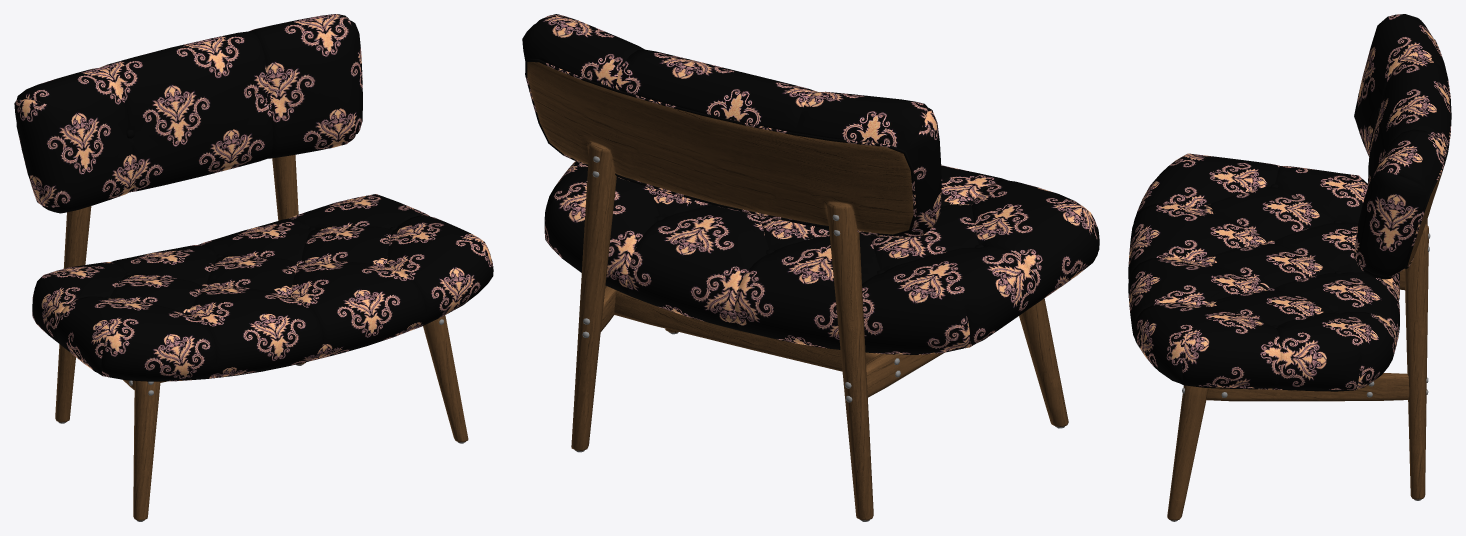
The model's file is ChairDamaskPurplegold.glb.
3 renders of one model, left to right at view 1: azimuth 30°, elevation 25°; view 2: azimuth 150°, elevation 25°; view 3: azimuth 270°, elevation 25°, orthographic. The views are drawn at different scales.
Visible parts, largest first — view 1: oval-tufted-chair_back-fabric, oval-tufted-chair_legs-frame; view 2: oval-tufted-chair_back-fabric, oval-tufted-chair_legs-frame; view 3: oval-tufted-chair_back-fabric, oval-tufted-chair_legs-frame.
Boxes of the visible parts, x1,y1,x2,y2 form: oval-tufted-chair_back-fabric: (14,14,493,381); oval-tufted-chair_legs-frame: (55,154,468,520); oval-tufted-chair_back-fabric: (522,14,1099,354); oval-tufted-chair_legs-frame: (527,62,1068,520); oval-tufted-chair_back-fabric: (1128,14,1451,391); oval-tufted-chair_legs-frame: (1167,169,1443,520).
Bounding box in the file's own units: 0.8286 × 0.6874 × 0.5718.
4 materials, 3 textured.
